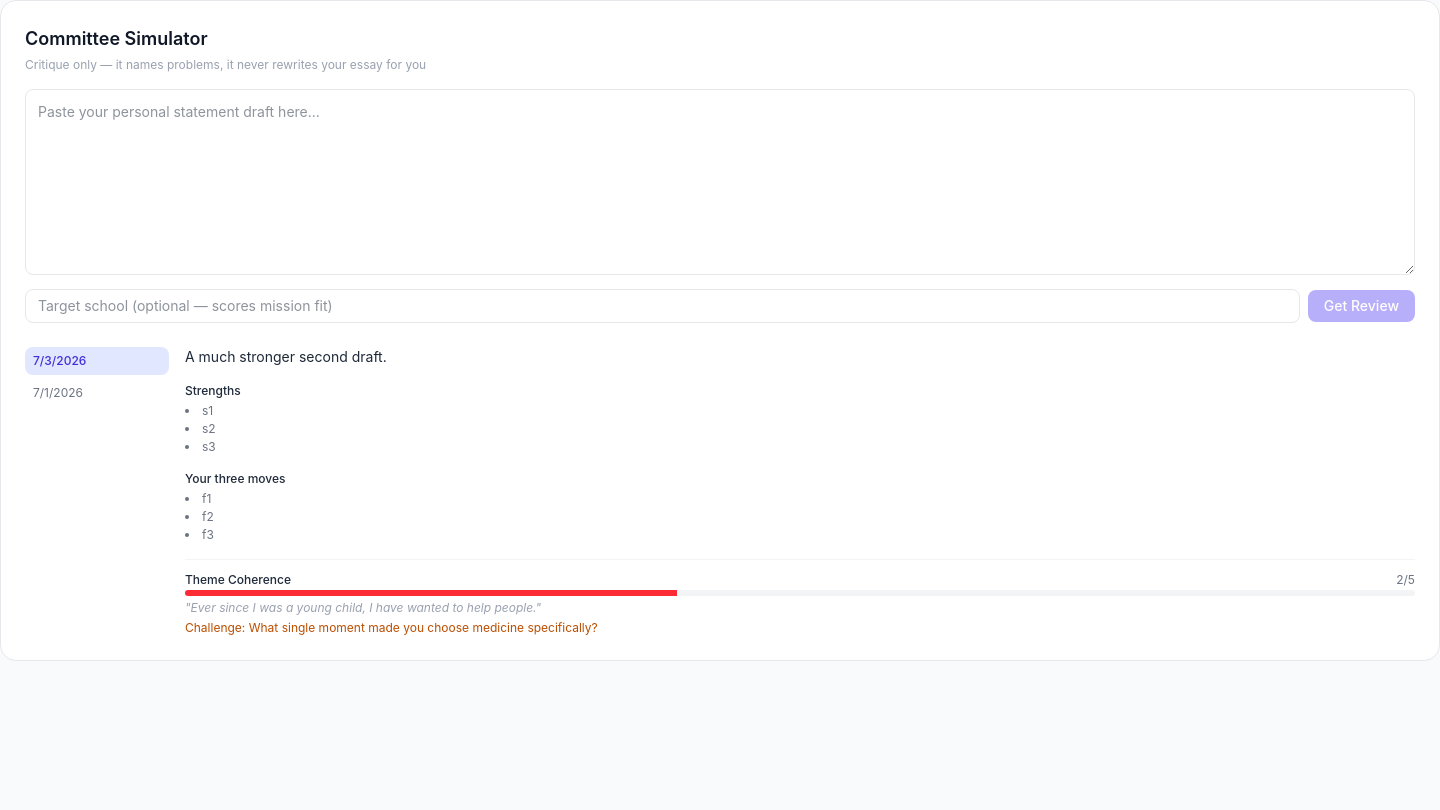
it: EssayReviewSection › switches the displayed review when a different history entry is clicked
The width and height of the screenshot is (1440, 810).
Expected: the text "A much stronger second draft." is shown, [185,348,387,365]
Click the button "7/1/2026" at x=97, y=393, box [25,379,169,407]
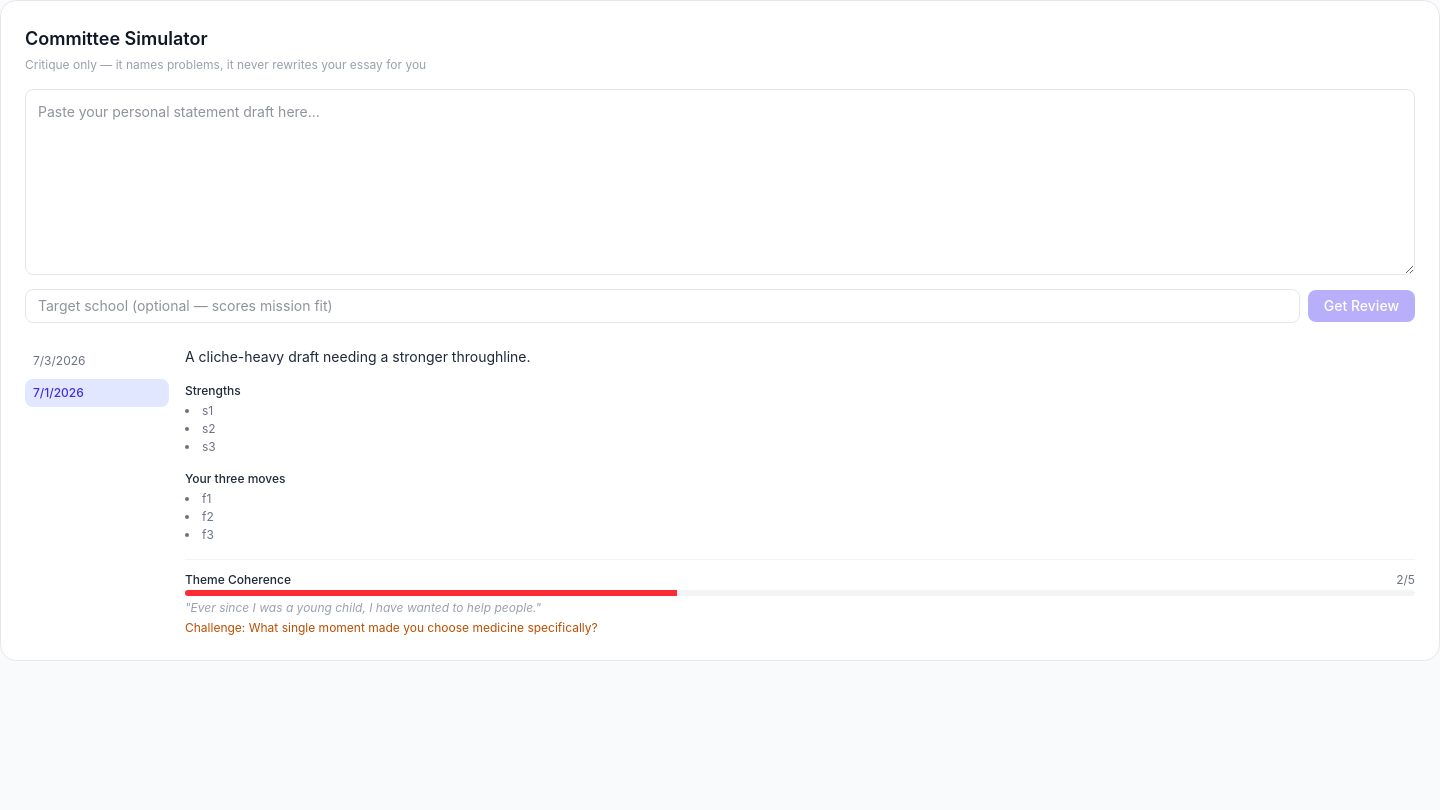
Expected: the text "A cliche-heavy draft needing a stronger throughline." is shown, [185,348,531,365]
